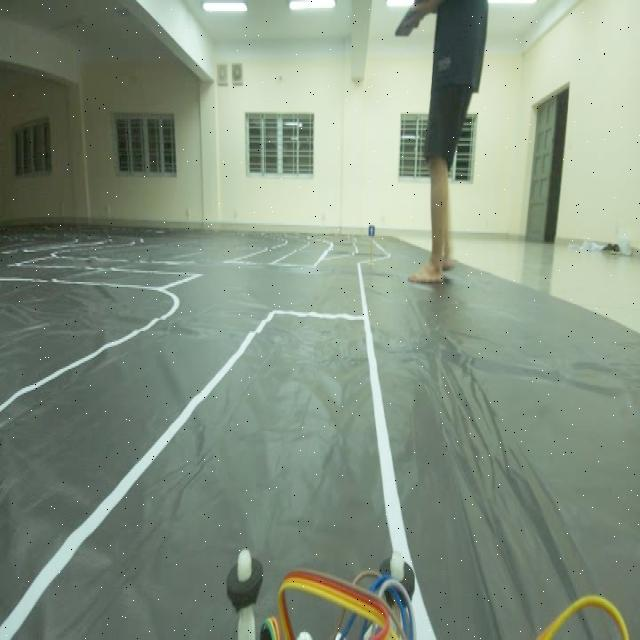onewayroad: (368, 222, 376, 241)
